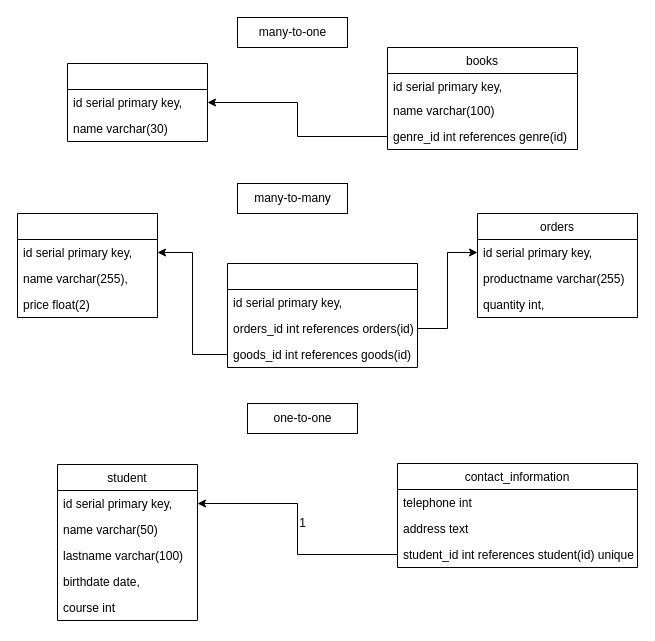
Some shapes in this 655 by 641 pixel diagram are drawn without their labels. The box of each missing label's shape, as (x1, y1, x2, y2) in pixels:
genre: (66, 62, 208, 142)
goods: (16, 212, 158, 318)
goods_orders: (226, 262, 418, 368)
